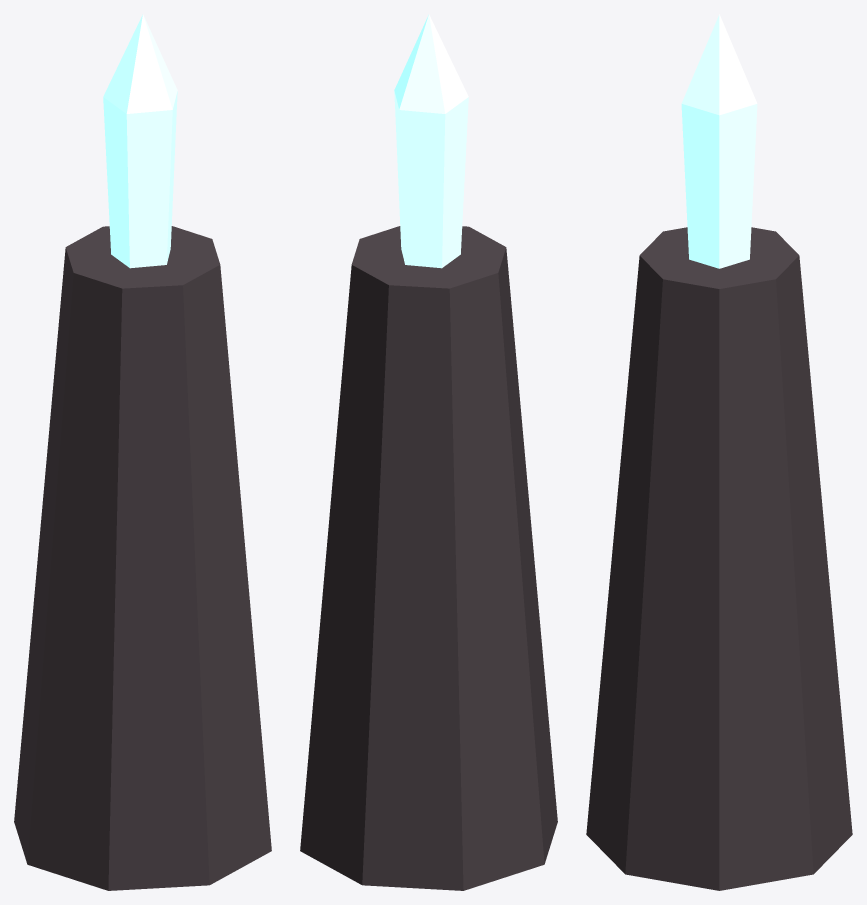
The model's file is Pocket_Stormwatch.glb.
The picture shows the model from 3 angles, left to right: view 1: azimuth 30°, elevation 25°; view 2: azimuth 150°, elevation 25°; view 3: azimuth 270°, elevation 25°; orthographic projection.
Visible parts, largest first — view 1: Pocket_Stormwatch_InfernalCaldera_stone_1_-5, Pocket_Stormwatch_Stormlight_1_-5; view 2: Pocket_Stormwatch_InfernalCaldera_stone_1_-5, Pocket_Stormwatch_Stormlight_1_-5; view 3: Pocket_Stormwatch_InfernalCaldera_stone_1_-5, Pocket_Stormwatch_Stormlight_1_-5.
Part boxes in pixels (x1=…): Pocket_Stormwatch_InfernalCaldera_stone_1_-5: x1=14, y1=226, x2=271, y2=890; Pocket_Stormwatch_Stormlight_1_-5: x1=103, y1=14, x2=177, y2=268; Pocket_Stormwatch_InfernalCaldera_stone_1_-5: x1=300, y1=226, x2=557, y2=890; Pocket_Stormwatch_Stormlight_1_-5: x1=394, y1=14, x2=468, y2=268; Pocket_Stormwatch_InfernalCaldera_stone_1_-5: x1=586, y1=227, x2=852, y2=890; Pocket_Stormwatch_Stormlight_1_-5: x1=681, y1=14, x2=757, y2=268.
Size of the model in its own units: 20 by 68 by 20.
